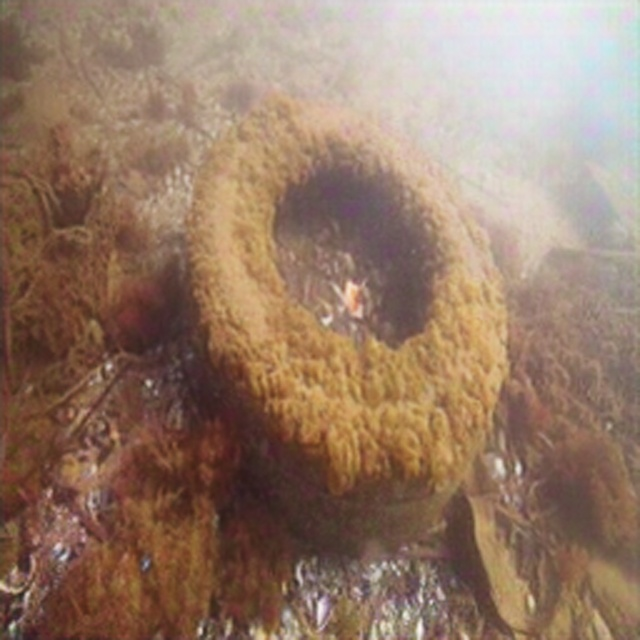mine: (194, 101, 506, 550)
